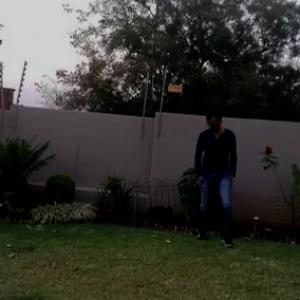follow: (198, 100, 246, 254)
